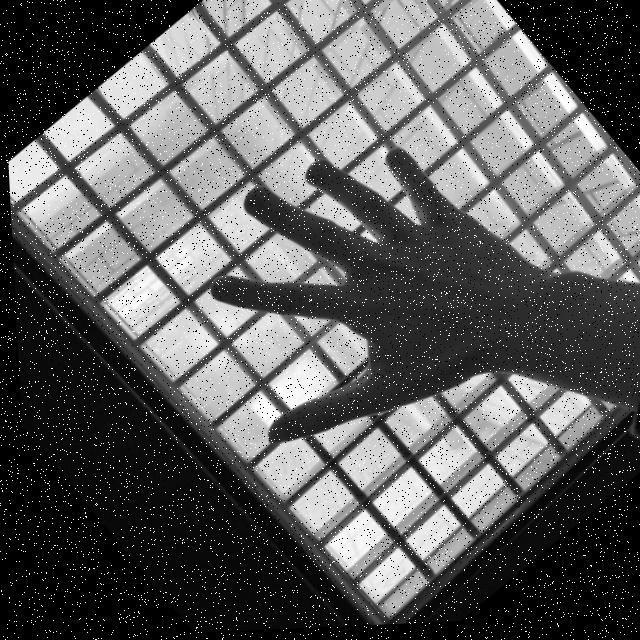no-gloves: (122, 82, 556, 508)
